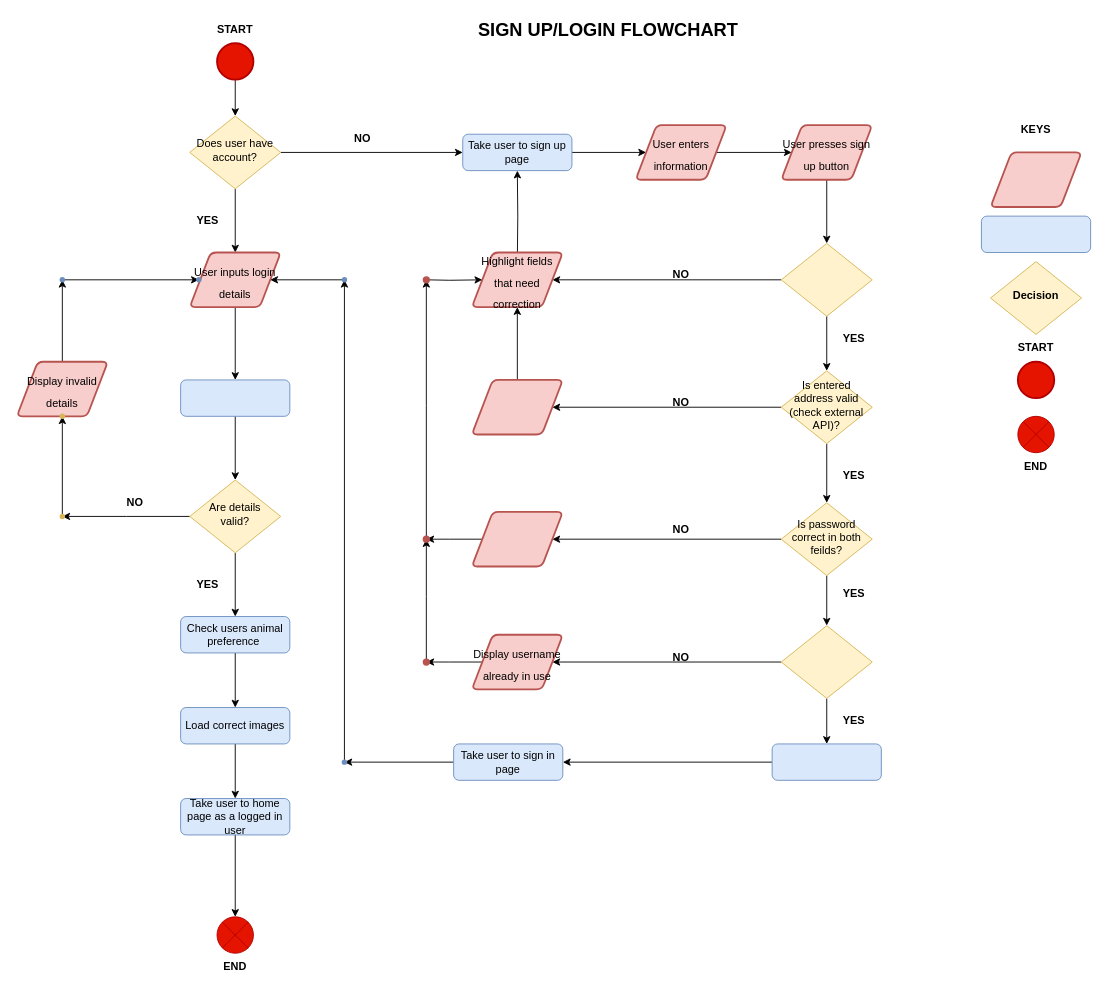
Some shapes in this 1107 by 996 pixel diagram are drawn without their labels. The centre of each missing label's shape, as x and y in pixels:
"Are mandatory fields entered?" goes at point (826, 279).
"Check entered info against database" goes at point (235, 397).
"Display invalid address" goes at point (516, 407).
"Display password not the same in both fields" goes at point (516, 539).
"Input/Output" goes at point (1035, 179).
"Is username unique?" goes at point (826, 661).
"Save entered details to database" goes at point (826, 761).
"System Process" goes at point (1036, 234).
